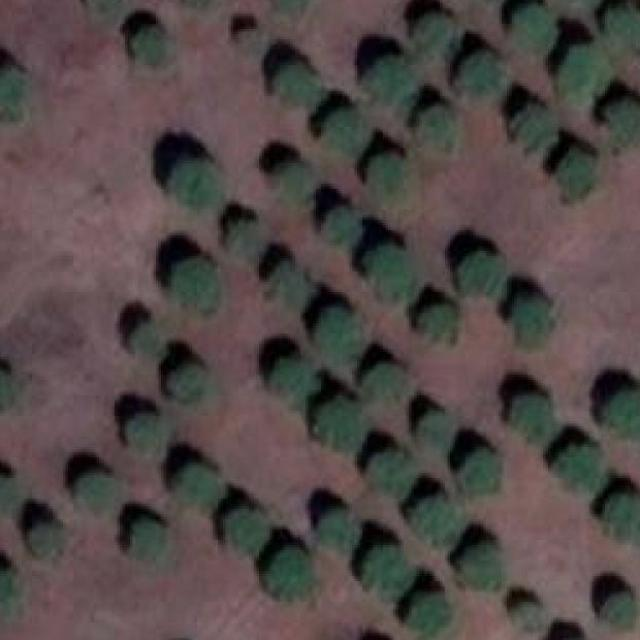Tree: (559, 44, 613, 99), (368, 245, 417, 302), (316, 308, 365, 357), (169, 163, 221, 208), (176, 259, 221, 311), (321, 400, 368, 447), (414, 496, 463, 541), (367, 60, 414, 106), (272, 359, 319, 404), (458, 251, 505, 295), (512, 297, 553, 347), (512, 8, 556, 53), (510, 395, 554, 440), (365, 548, 407, 595), (272, 550, 314, 597), (367, 156, 409, 202), (267, 264, 309, 309), (558, 447, 600, 491), (460, 55, 502, 96), (419, 106, 455, 153), (226, 512, 267, 553), (605, 496, 640, 543), (462, 545, 502, 586), (274, 67, 316, 106), (461, 450, 496, 495), (605, 393, 640, 438), (178, 470, 218, 509), (130, 522, 171, 560), (371, 456, 415, 490), (323, 112, 362, 150), (78, 473, 118, 509), (520, 106, 554, 148), (409, 596, 448, 632), (319, 511, 355, 550), (558, 153, 592, 194), (610, 96, 640, 142), (414, 16, 453, 50), (417, 414, 453, 450), (0, 70, 27, 117), (422, 307, 456, 343), (326, 207, 357, 246), (368, 366, 407, 396), (130, 416, 164, 450), (608, 13, 640, 48), (228, 223, 259, 259), (170, 364, 203, 396), (280, 166, 308, 202), (32, 524, 61, 558), (607, 594, 636, 628), (0, 571, 20, 617), (87, 0, 128, 22), (135, 31, 166, 60), (130, 323, 159, 352), (515, 602, 536, 628), (0, 480, 17, 509), (0, 372, 11, 408), (274, 0, 305, 11), (236, 29, 257, 44), (560, 0, 599, 8), (187, 0, 215, 5)
